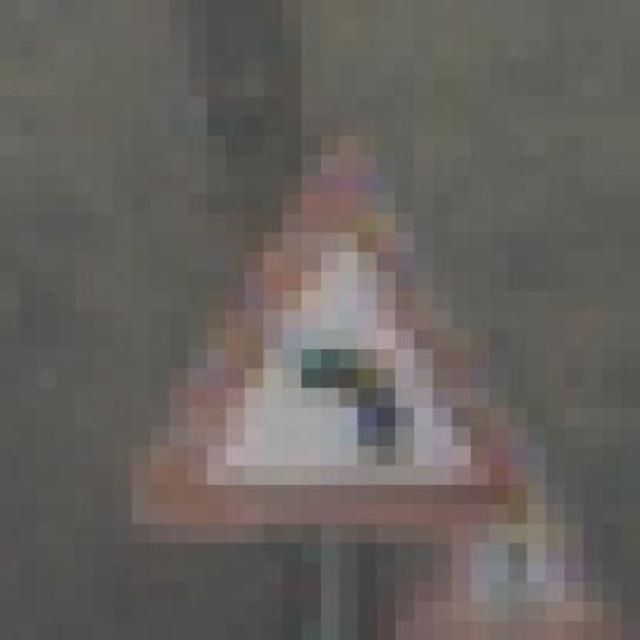Dangerous Left Curve Ahead: (94, 155, 508, 543)
